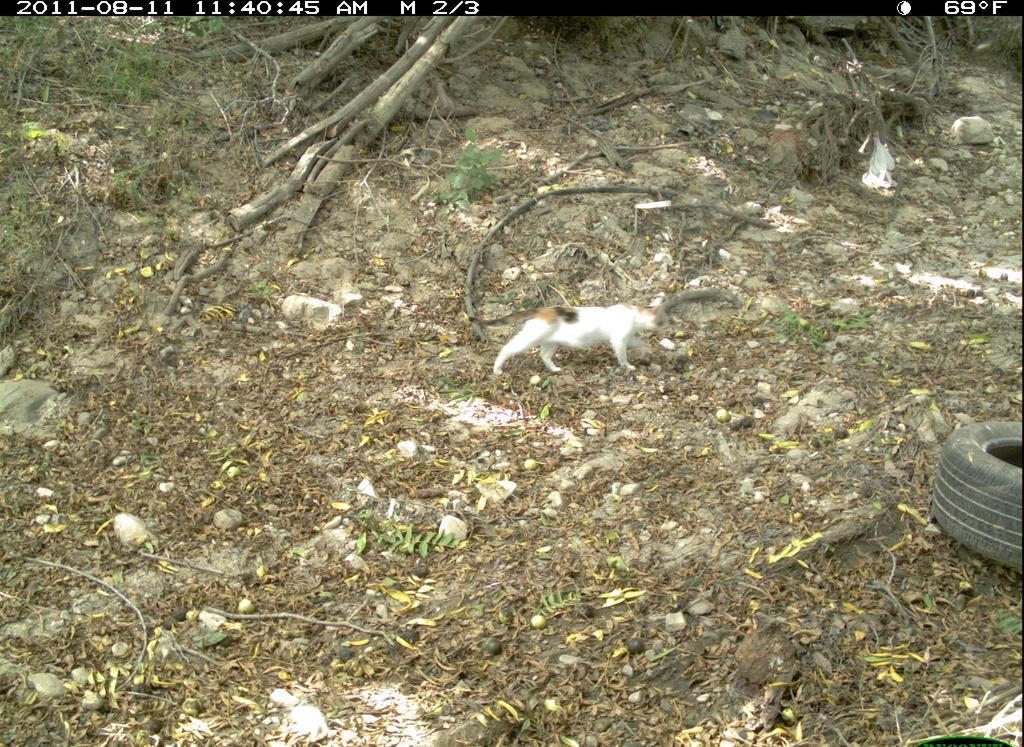cat: (468, 299, 667, 379)
